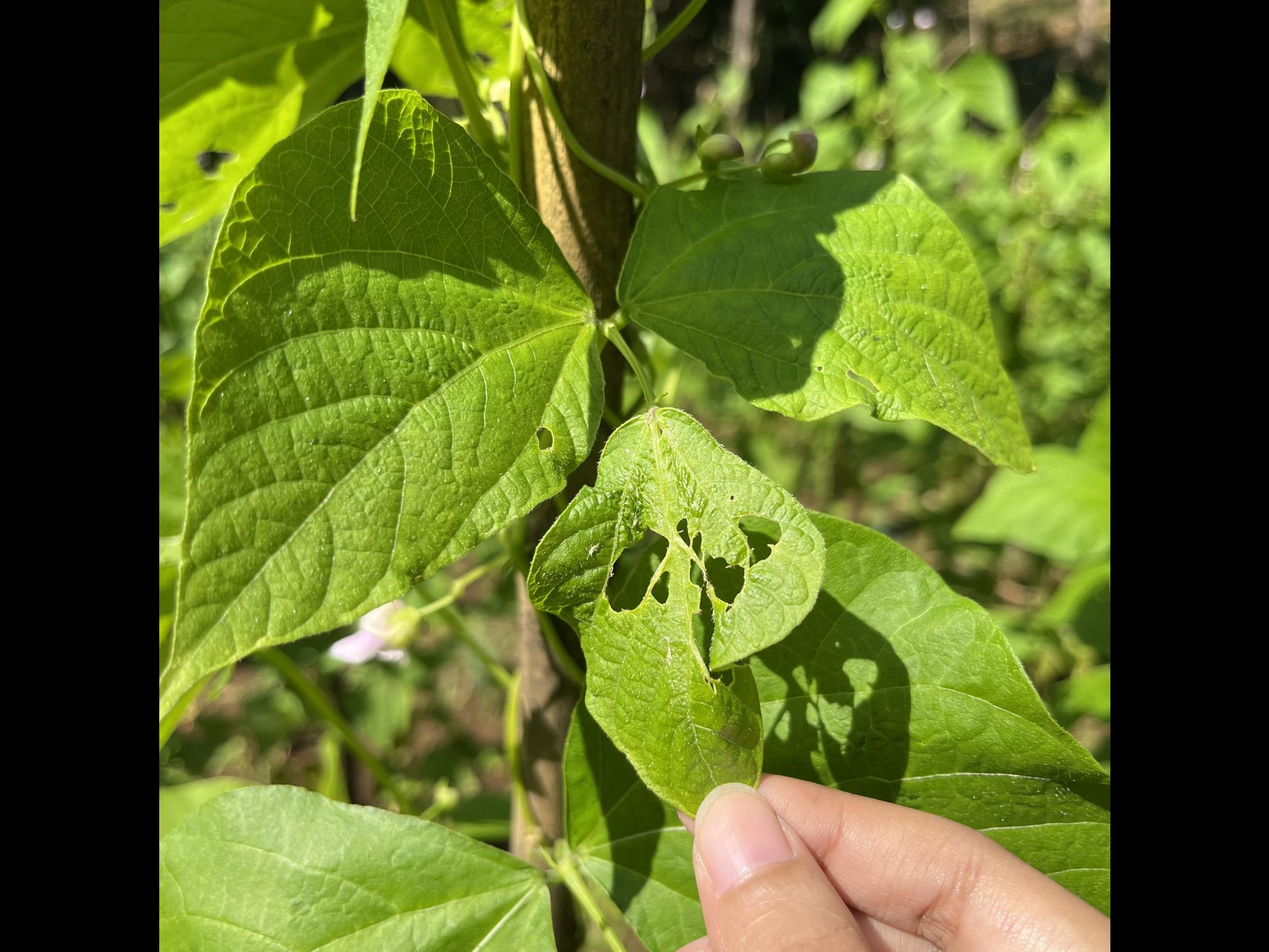mozaik: (605, 507, 786, 706)
